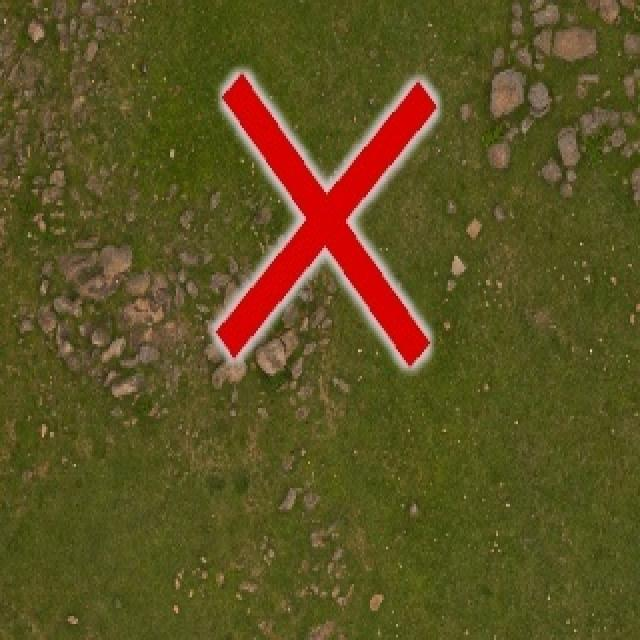x_marker: (215, 73, 435, 364)
